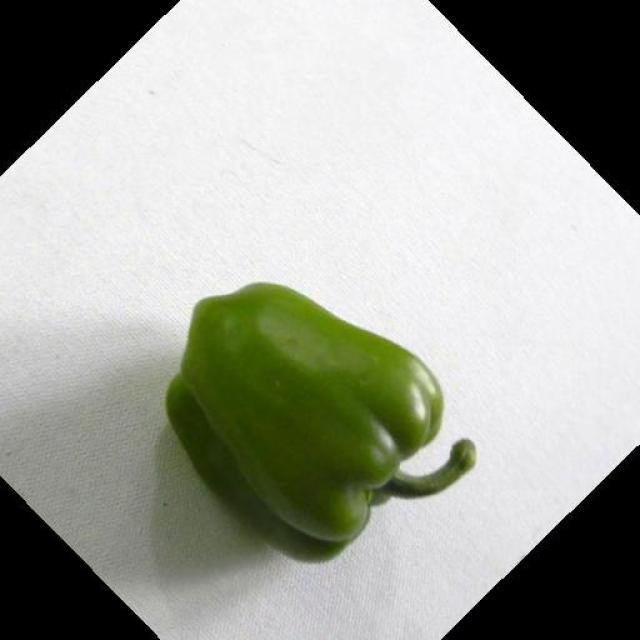Fresh_Capsicum: (160, 256, 503, 556)
